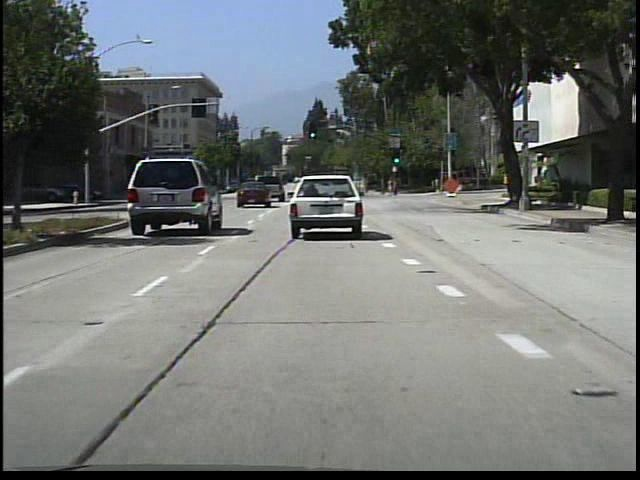person: (383, 172, 397, 199)
